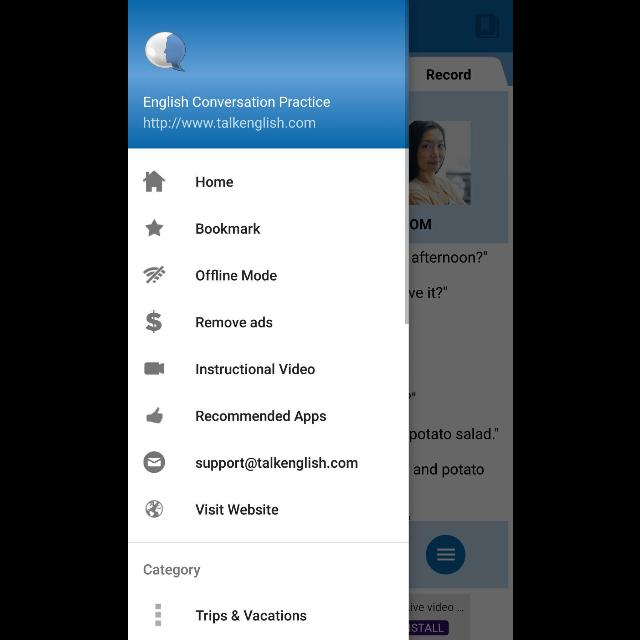icon: (143, 451, 165, 473), (142, 170, 164, 192), (145, 311, 161, 334), (145, 219, 163, 237), (154, 603, 162, 627)
image: (144, 32, 186, 72), (142, 266, 166, 284), (145, 500, 163, 518), (146, 406, 162, 424), (144, 362, 164, 376)
panel: (128, 1, 408, 640)
text: (143, 116, 315, 132), (143, 96, 330, 110), (195, 457, 357, 471), (195, 410, 325, 424), (194, 610, 306, 624), (196, 363, 314, 375), (195, 503, 278, 515), (196, 269, 276, 281), (195, 316, 272, 328), (143, 564, 200, 578), (196, 222, 260, 234), (195, 176, 232, 188)
